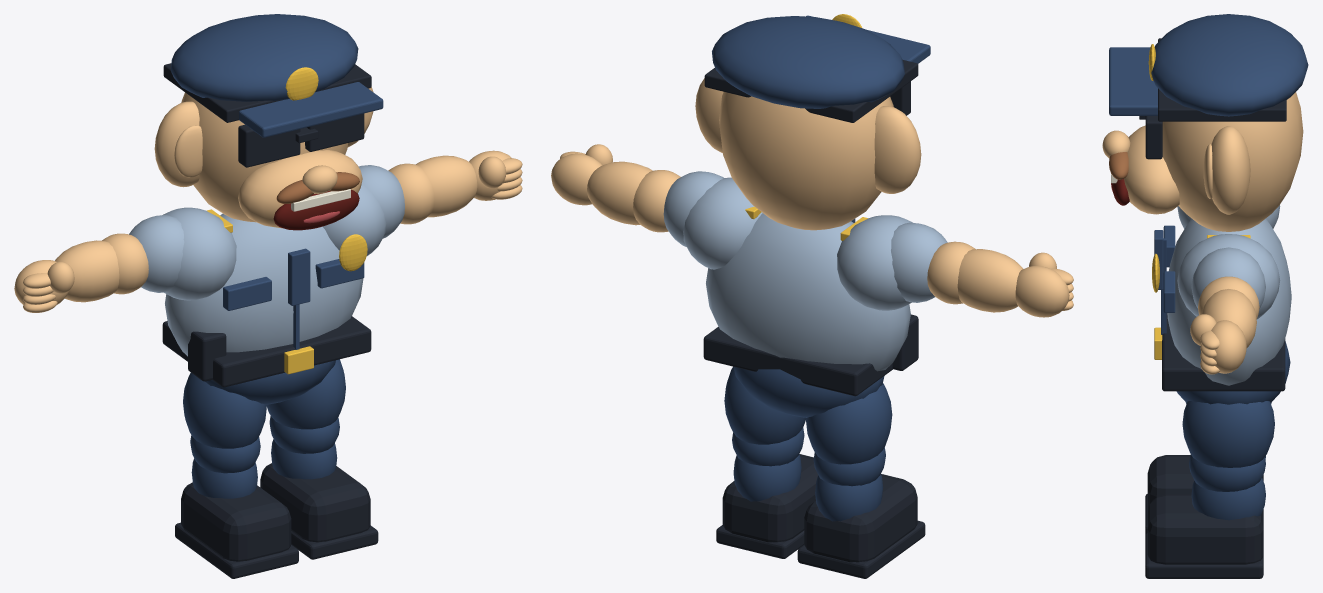
Rendered from Police_TPose_For_Mixamo.fbx.
3 views of the same model, side by side, from view 1: azimuth 30°, elevation 25°; view 2: azimuth 150°, elevation 25°; view 3: azimuth 270°, elevation 25° (orthographic). The views are drawn at different scales.
Parts seen in each view (by area): view 1: Police_SkinnedMesh.001; view 2: Police_SkinnedMesh.001; view 3: Police_SkinnedMesh.001.
Part boxes in pixels (x1,y1,x2,y2): Police_SkinnedMesh.001: (14, 14, 522, 578); Police_SkinnedMesh.001: (551, 14, 1073, 578); Police_SkinnedMesh.001: (1102, 14, 1308, 578).
Bounding box in the file's own units: 227 × 218 × 80.1.
